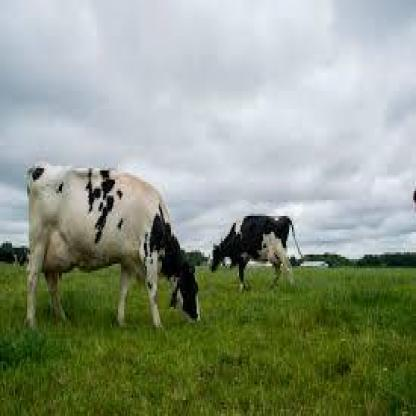cow: (26, 165, 200, 331), (209, 214, 304, 293)
